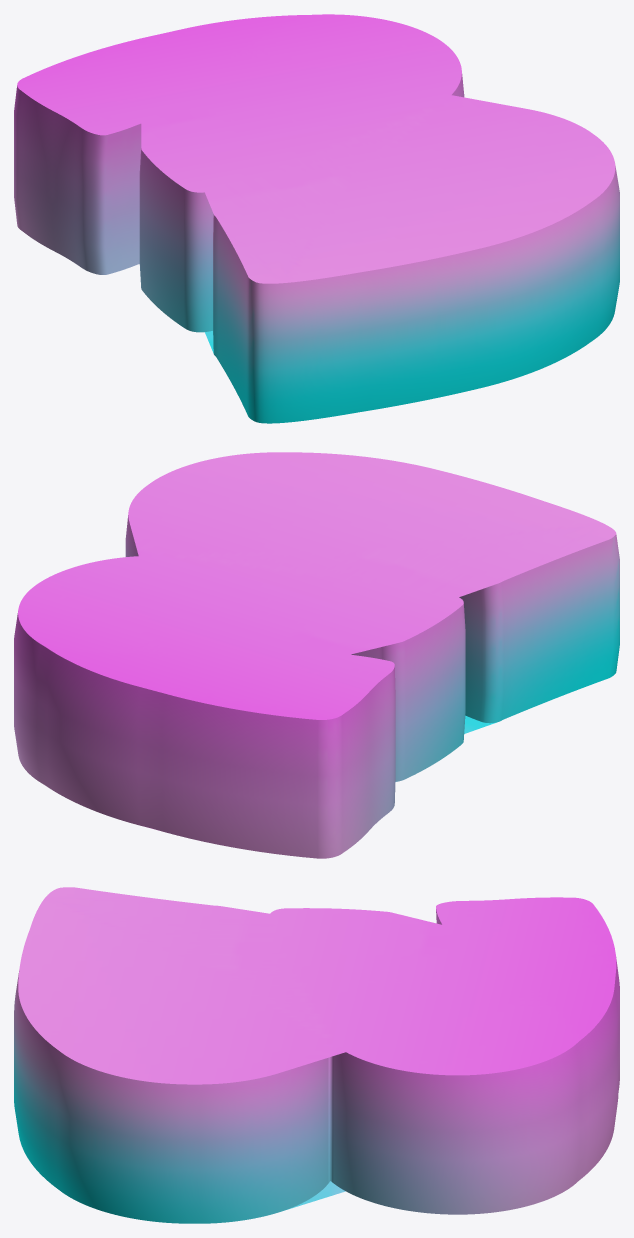
3 views of the same model, one above another, from view 1: azimuth 30°, elevation 25°; view 2: azimuth 150°, elevation 25°; view 3: azimuth 270°, elevation 25° (orthographic).
Visible parts, largest first — view 1: Curve.003; view 2: Curve.003; view 3: Curve.003.
Part boxes in pixels (bbox=[...]): Curve.003: bbox=[14, 14, 619, 423]; Curve.003: bbox=[14, 452, 619, 858]; Curve.003: bbox=[14, 887, 619, 1223].
Bounding box in the file's own units: 34.96 × 11.36 × 44.8.
Materials: 1 (1 with a texture image).
